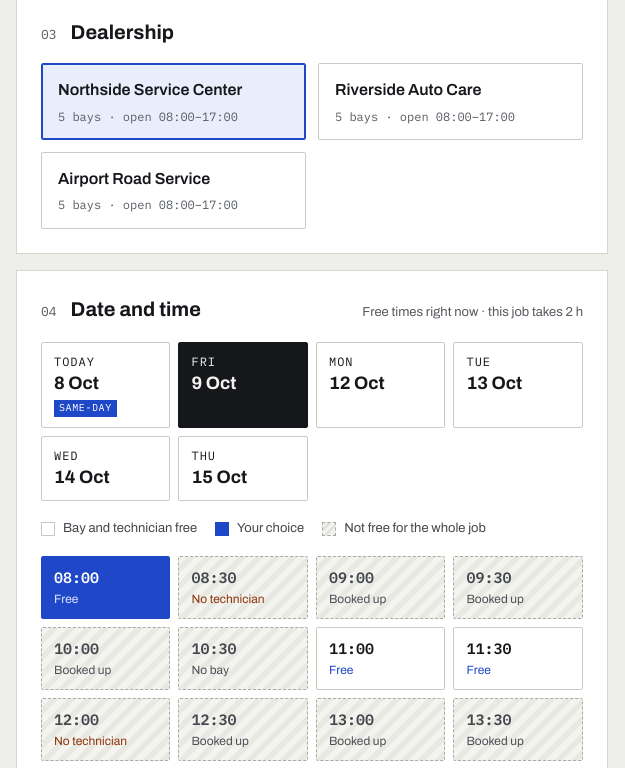
Test: Book screen › Today + brake pad replacement shows the SERVICE_NOT_EXPRESS panel and the same-day notice
(page scrolled)
Click the button with aria-label "Today, Thu 8 Oct" at (106, 385), box [41,342,170,428]
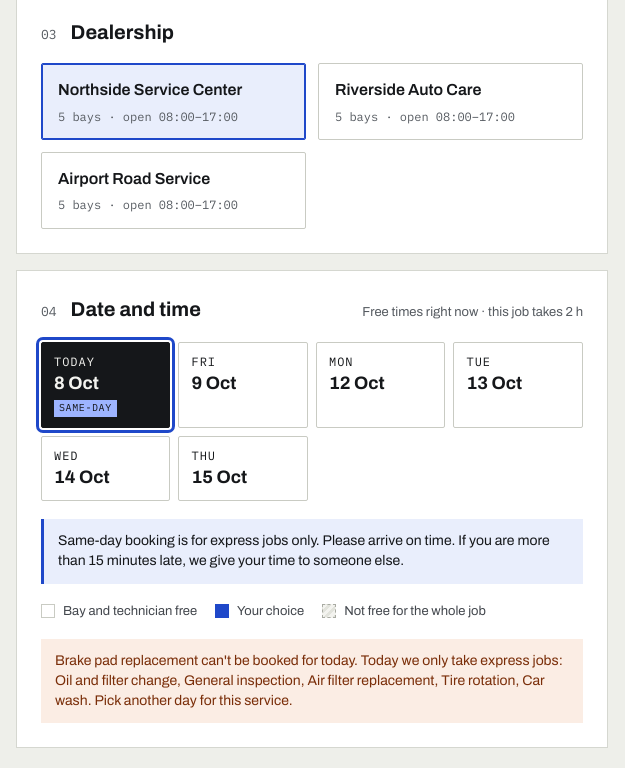
Expected: the text "Brake pad replacement can't be booked for today. Today we only take express jobs: Oil and filter change, General inspec" is shown, [55,652,563,708]
Expected: the text "Same-day booking is for express jobs only. Please arrive on time" shows "more than 15 minutes late", [58,533,550,568]
